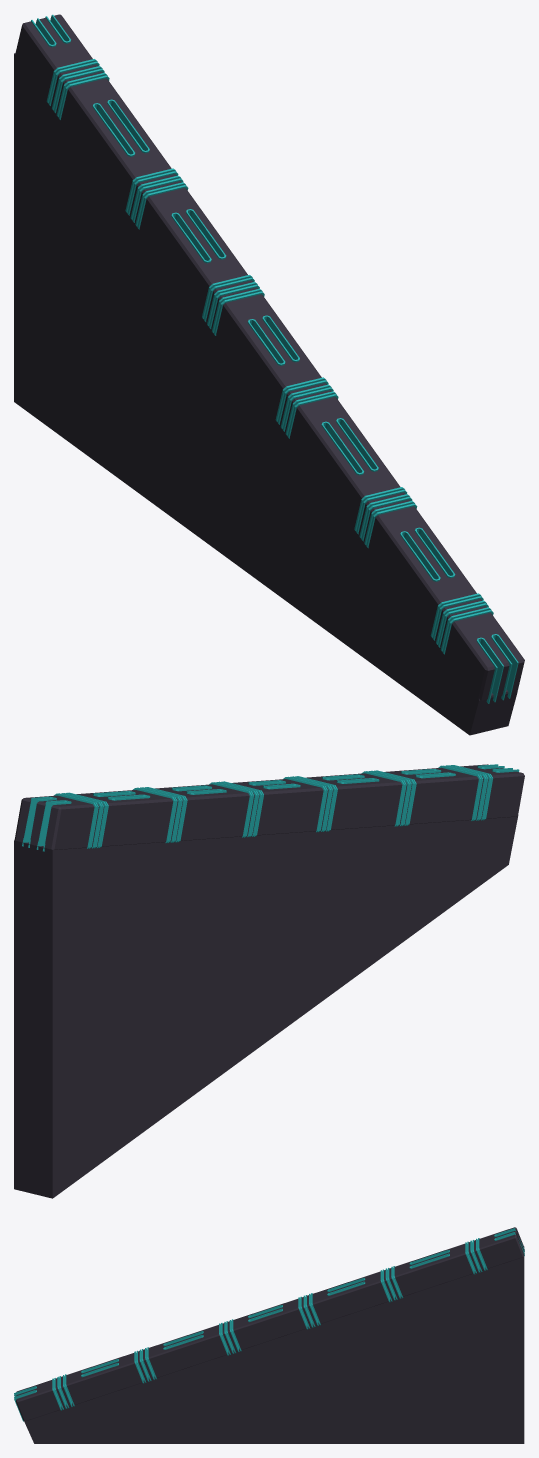
The model's file is ramp inclined 1.fbx.
The picture shows the model from 3 angles, top to bottom: view 1: azimuth 30°, elevation 25°; view 2: azimuth 150°, elevation 25°; view 3: azimuth 270°, elevation 25°; orthographic projection. The views are drawn at different scales.
Parts seen in each view (by area): view 1: pCube119; view 2: pCube119; view 3: pCube119.
Part boxes in pixels (left/top/right/bottom): pCube119: left=14, top=14, right=524, bottom=735; pCube119: left=14, top=764, right=524, bottom=1198; pCube119: left=14, top=1227, right=524, bottom=1443.
Size of the model in its own units: 29.86 by 257 by 572.
